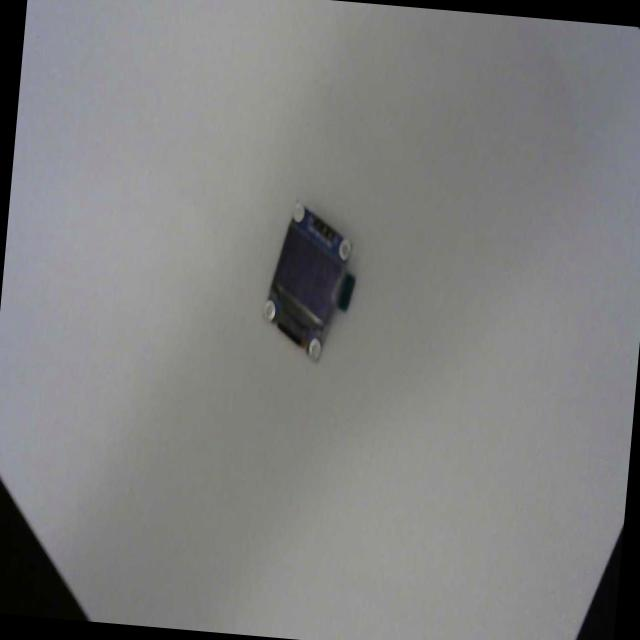oled: (252, 196, 367, 366)
